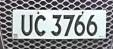3: (48, 12, 64, 39)
6: (85, 12, 99, 39), (74, 13, 87, 38)
7: (62, 13, 76, 39)
C: (33, 12, 49, 38)
U: (20, 12, 34, 39)
